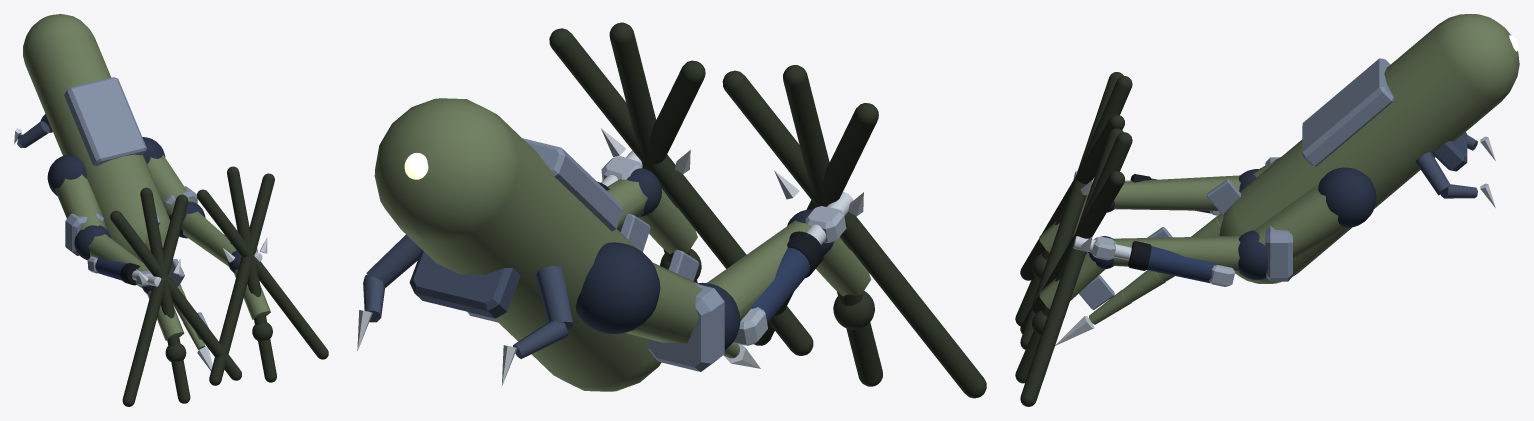
The model's file is enemy_leaper_airborne.glb.
The picture shows the model from 3 angles, left to right: view 1: azimuth 30°, elevation 25°; view 2: azimuth 150°, elevation 25°; view 3: azimuth 270°, elevation 25°; orthographic projection. The views are drawn at different scales.
Parts seen in each view (by area): view 1: leaper_torso, leaper_back_plate, leaper_toe_l0, leaper_toe_r0, leaper_toe_r2, leaper_toe_l2, leaper_toe_l1, leaper_toe_r1, leaper_thigh_l, leaper_shin_r, leaper_thigh_r, leaper_shin_l (+11 smaller); view 2: leaper_torso, leaper_toe_l0, leaper_toe_r0, leaper_hip_l, leaper_toe_l1, leaper_chest, leaper_knee_cap_l, leaper_shin_l, leaper_toe_r1, leaper_thigh_l, leaper_toe_l2, leaper_back_plate (+18 smaller); view 3: leaper_torso, leaper_back_plate, leaper_toe_r2, leaper_shin_l, leaper_thigh_r, leaper_hip_r, leaper_toe_l2, leaper_shin_r, leaper_toe_r1, leaper_toe_r0, leaper_toe_l1, leaper_toe_l0 (+14 smaller).
Part boxes in pixels (bbox=[...]): leaper_torso: bbox=[23, 14, 170, 262]; leaper_back_plate: bbox=[64, 77, 146, 166]; leaper_toe_l0: bbox=[122, 194, 188, 406]; leaper_toe_r0: bbox=[209, 173, 274, 385]; leaper_toe_r2: bbox=[197, 189, 328, 359]; leaper_toe_l2: bbox=[110, 210, 241, 380]; leaper_toe_l1: bbox=[140, 187, 190, 403]; leaper_toe_r1: bbox=[227, 166, 276, 382]; leaper_thigh_l: bbox=[55, 174, 106, 230]; leaper_shin_r: bbox=[181, 211, 236, 266]; leaper_thigh_r: bbox=[147, 155, 194, 216]; leaper_shin_l: bbox=[88, 234, 148, 288]; leaper_torso: bbox=[374, 98, 661, 391]; leaper_toe_l0: bbox=[722, 70, 986, 398]; leaper_toe_r0: bbox=[549, 28, 813, 355]; leaper_hip_l: bbox=[575, 242, 660, 333]; leaper_toe_l1: bbox=[783, 65, 882, 386]; leaper_chest: bbox=[409, 250, 520, 318]; leaper_knee_cap_l: bbox=[647, 283, 724, 371]; leaper_shin_l: bbox=[707, 220, 809, 320]; leaper_toe_r1: bbox=[609, 22, 697, 282]; leaper_thigh_l: bbox=[625, 262, 702, 343]; leaper_toe_l2: bbox=[754, 103, 878, 345]; leaper_back_plate: bbox=[523, 138, 622, 231]; leaper_torso: bbox=[1219, 14, 1519, 283]; leaper_back_plate: bbox=[1302, 58, 1393, 166]; leaper_toe_r2: bbox=[1020, 128, 1123, 406]; leaper_shin_l: bbox=[1113, 175, 1240, 210]; leaper_thigh_r: bbox=[1253, 183, 1347, 258]; leaper_hip_r: bbox=[1318, 167, 1376, 227]; leaper_toe_l2: bbox=[1020, 72, 1123, 349]; leaper_shin_r: bbox=[1112, 236, 1240, 271]; leaper_toe_r1: bbox=[1015, 132, 1132, 383]; leaper_toe_r0: bbox=[1020, 171, 1124, 333]; leaper_toe_l1: bbox=[1015, 76, 1132, 326]; leaper_toe_l0: bbox=[1020, 114, 1124, 280].
Bounding box in the file's own units: 1.13 × 1.34 × 1.82.
